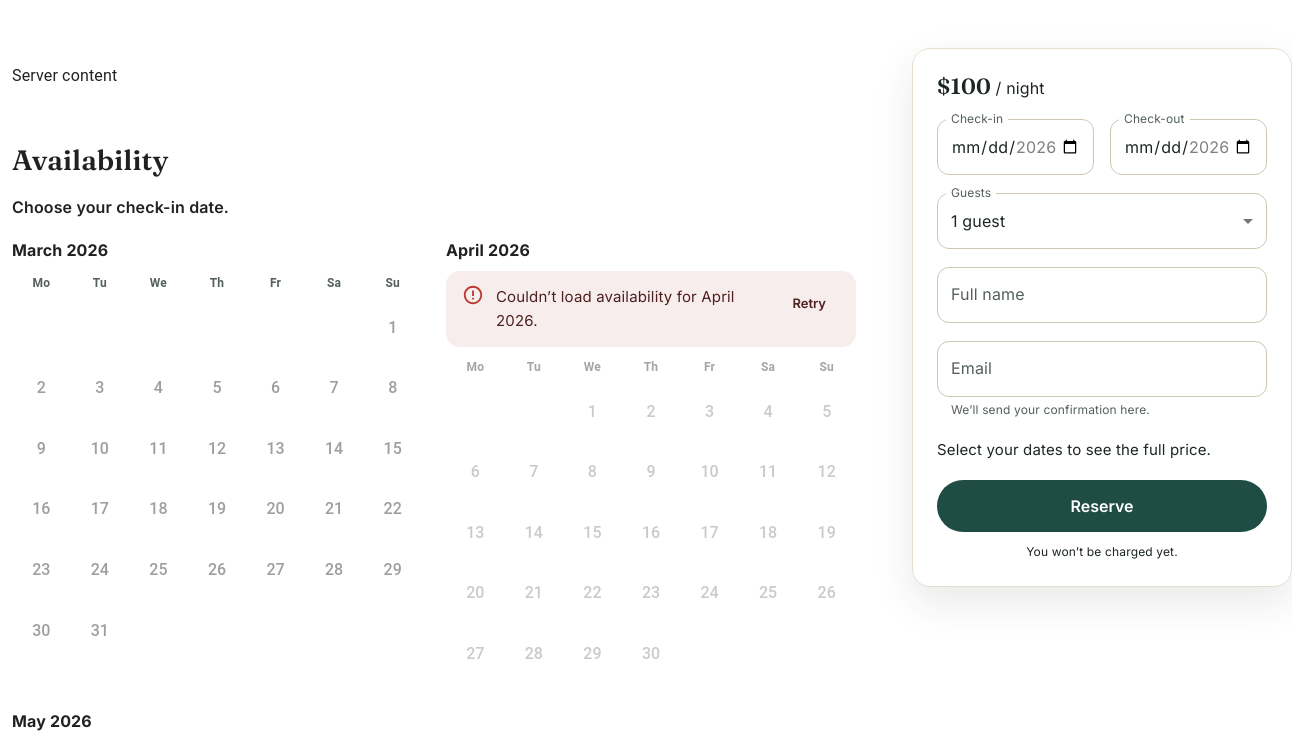
Test: booking flow › shows an error with a retry for a month that failed to load
The width and height of the screenshot is (1292, 747).
Expected: the text "Couldn’t load availability for April 2026." is shown, [496,277,754,341]
Click the button "Retry" at (809, 303), box [770,281,848,325]
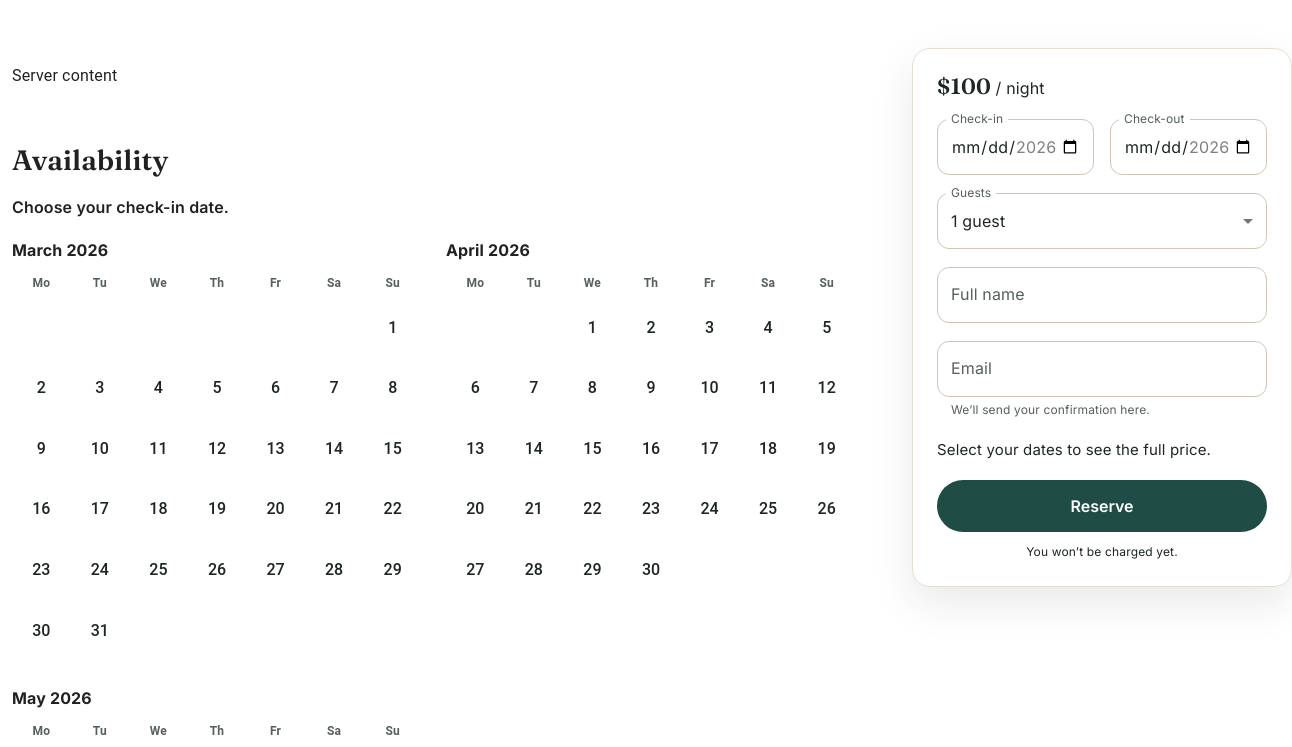
Expected: the text "Couldn’t load availability" is gone
